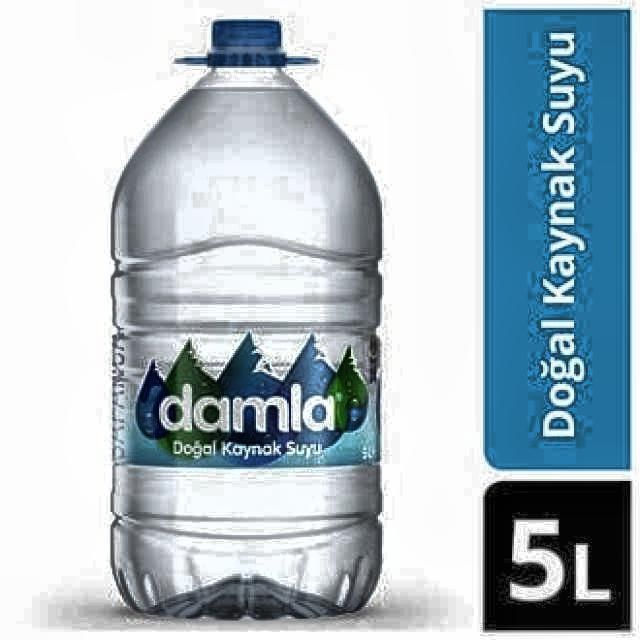plastic: (107, 19, 385, 626)
